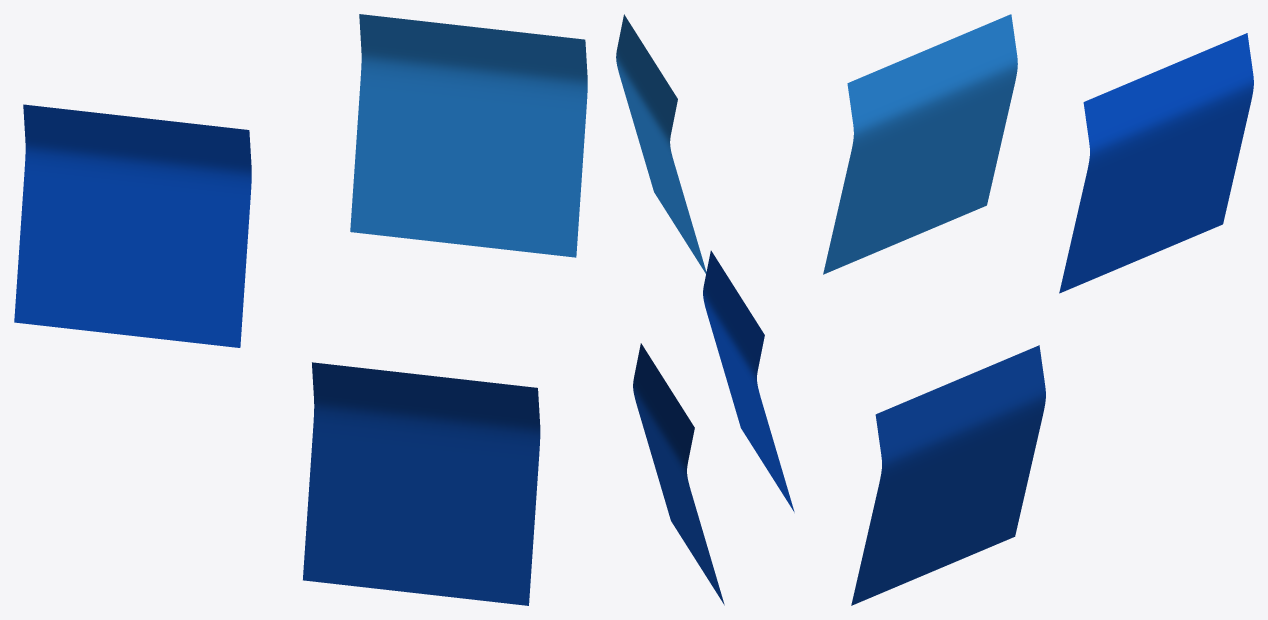
Rendered from StickyNotes.fbx.
3 views of the same model, side by side, from view 1: azimuth 30°, elevation 25°; view 2: azimuth 150°, elevation 25°; view 3: azimuth 270°, elevation 25° (orthographic). The views are drawn at different scales.
Parts seen in each view (by area): view 1: pPlane4, pPlane3, pPlane5; view 2: pPlane4, pPlane5, pPlane3; view 3: pPlane4, pPlane3, pPlane5.
Part boxes in pixels (x1,y1,x2,y2): pPlane4: [350, 14, 587, 257]; pPlane3: [14, 104, 251, 347]; pPlane5: [303, 362, 540, 605]; pPlane4: [616, 14, 706, 273]; pPlane5: [633, 343, 724, 605]; pPlane3: [703, 250, 794, 512]; pPlane4: [823, 14, 1017, 274]; pPlane3: [1059, 33, 1253, 293]; pPlane5: [851, 345, 1045, 605].
Size of the model in its own units: 37.55 by 51.39 by 36.55.
